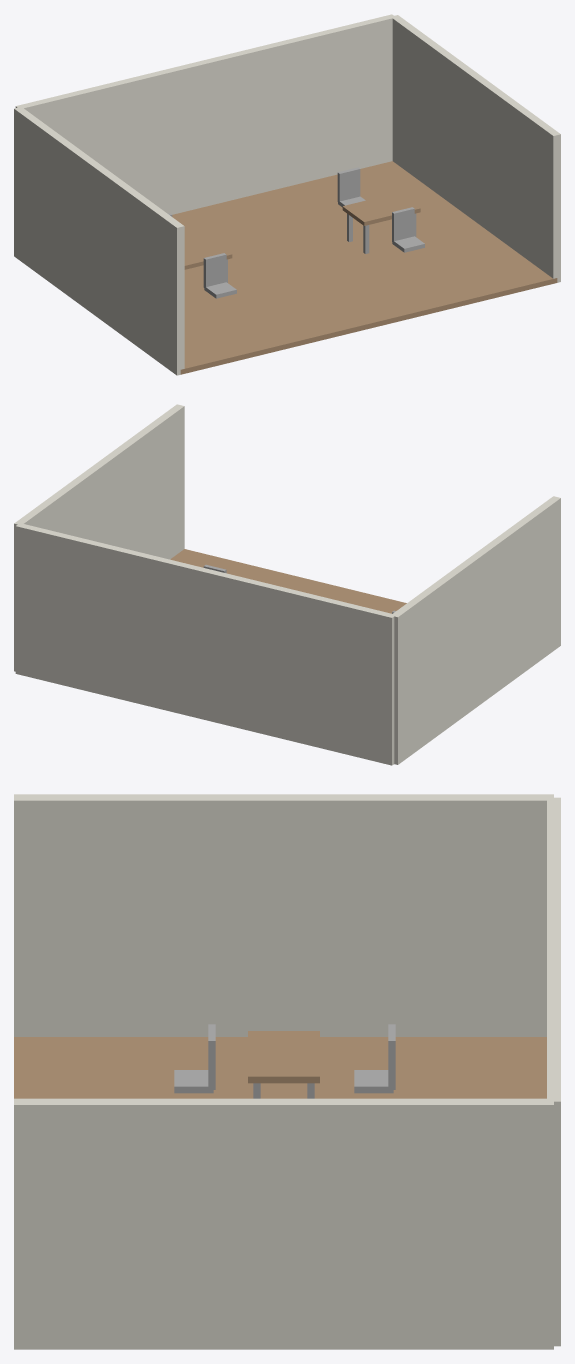
Rendered from dining_room.glb.
3 renders of one model, top to bottom at view 1: azimuth 30°, elevation 25°; view 2: azimuth 150°, elevation 25°; view 3: azimuth 270°, elevation 25°, orthographic. The views are drawn at different scales.
Visible parts, largest first — view 1: back, floor, left, right, tabletop.001, tabletop, back.004, back.001, back.002; view 2: back, left, right, floor; view 3: right, left, floor, back, tabletop, seat.002, seat.
Part boxes in pixels (<box>): back: <box>15,14,395,214</box>; floor: <box>172,161,557,374</box>; left: <box>14,107,184,375</box>; right: <box>392,15,560,282</box>; tabletop.001: <box>342,192,420,225</box>; tabletop: <box>184,238,232,269</box>; back.004: <box>337,167,360,202</box>; back.001: <box>203,253,226,287</box>; back.002: <box>392,207,414,241</box>; back: <box>15,523,395,765</box>; left: <box>393,496,560,764</box>; right: <box>14,404,184,671</box>; floor: <box>170,549,406,613</box>; right: <box>14,1098,553,1349</box>; left: <box>14,794,553,1036</box>; floor: <box>14,1037,546,1098</box>; back: <box>547,797,560,1346</box>; tabletop: <box>248,1031,319,1083</box>; seat.002: <box>354,1070,393,1093</box>; seat: <box>174,1070,213,1093</box>.
Size of the model in its own units: 8.16 by 3 by 6.08.
